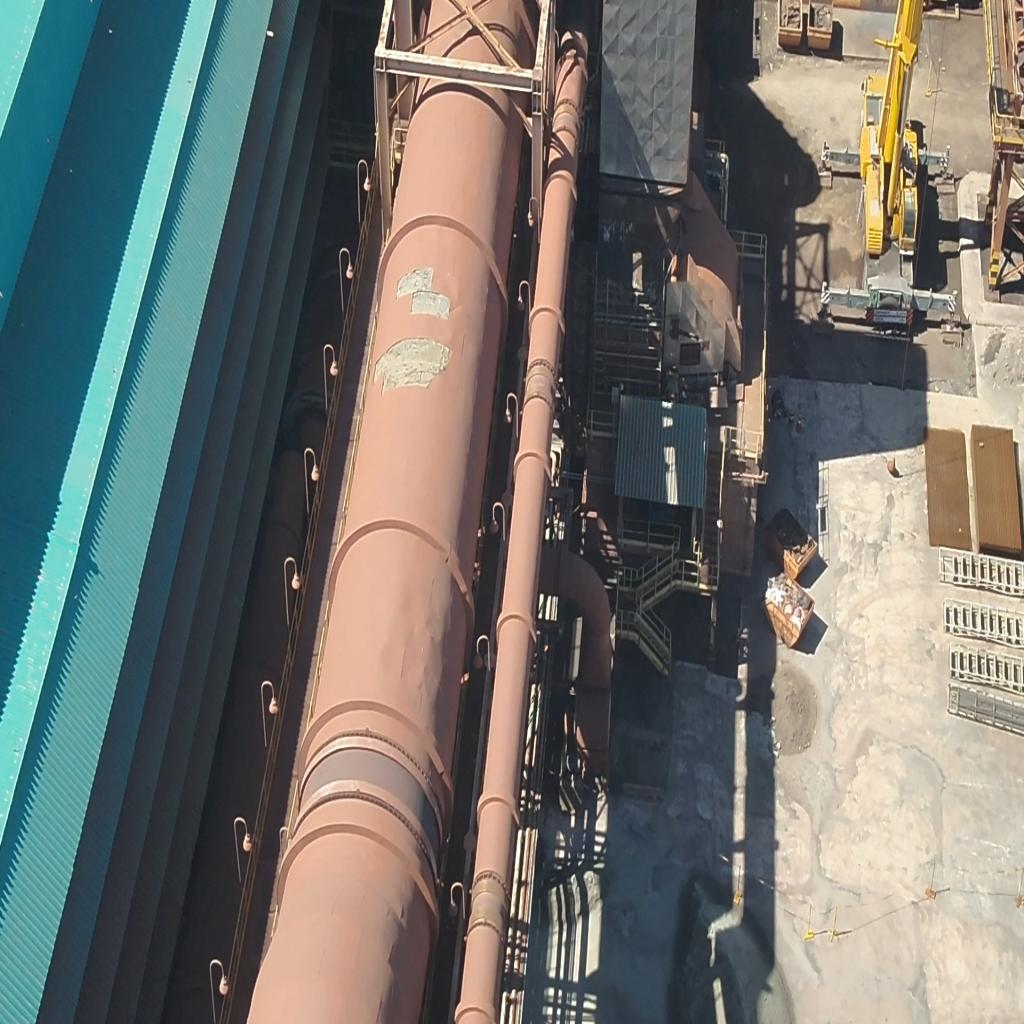Failures: (372, 334, 456, 396), (394, 261, 452, 324)
